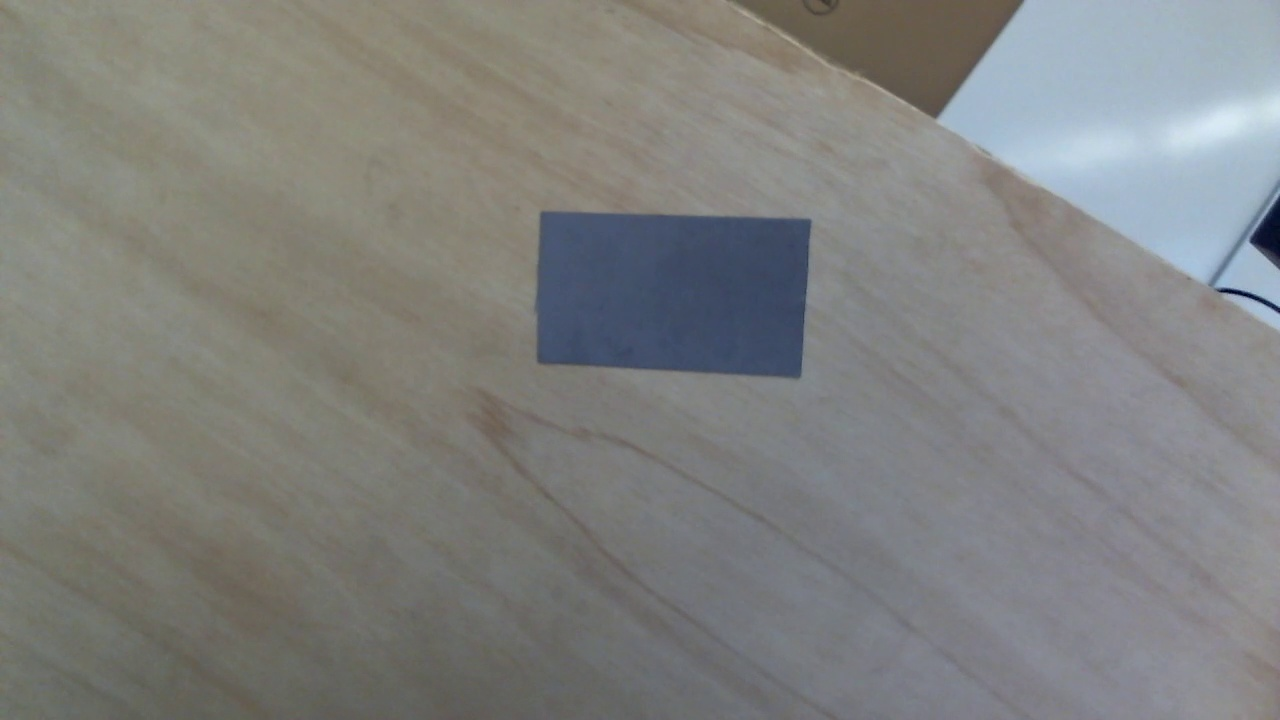Tape: (539, 213, 813, 380)
